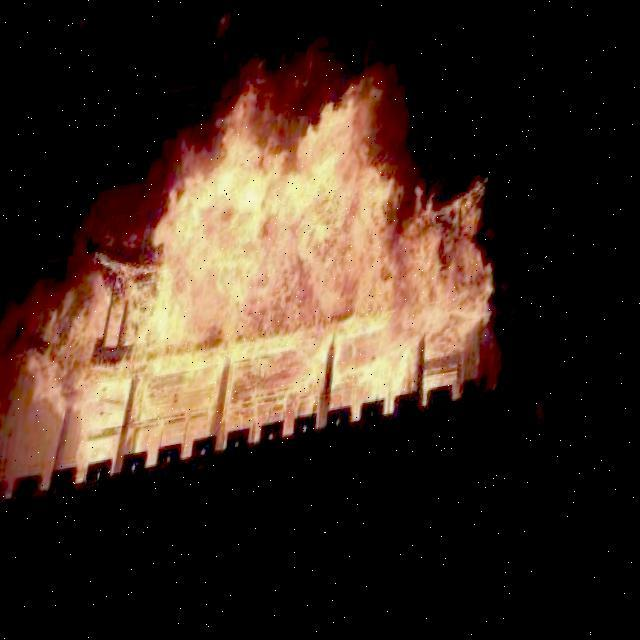Fire: (59, 53, 535, 466)
